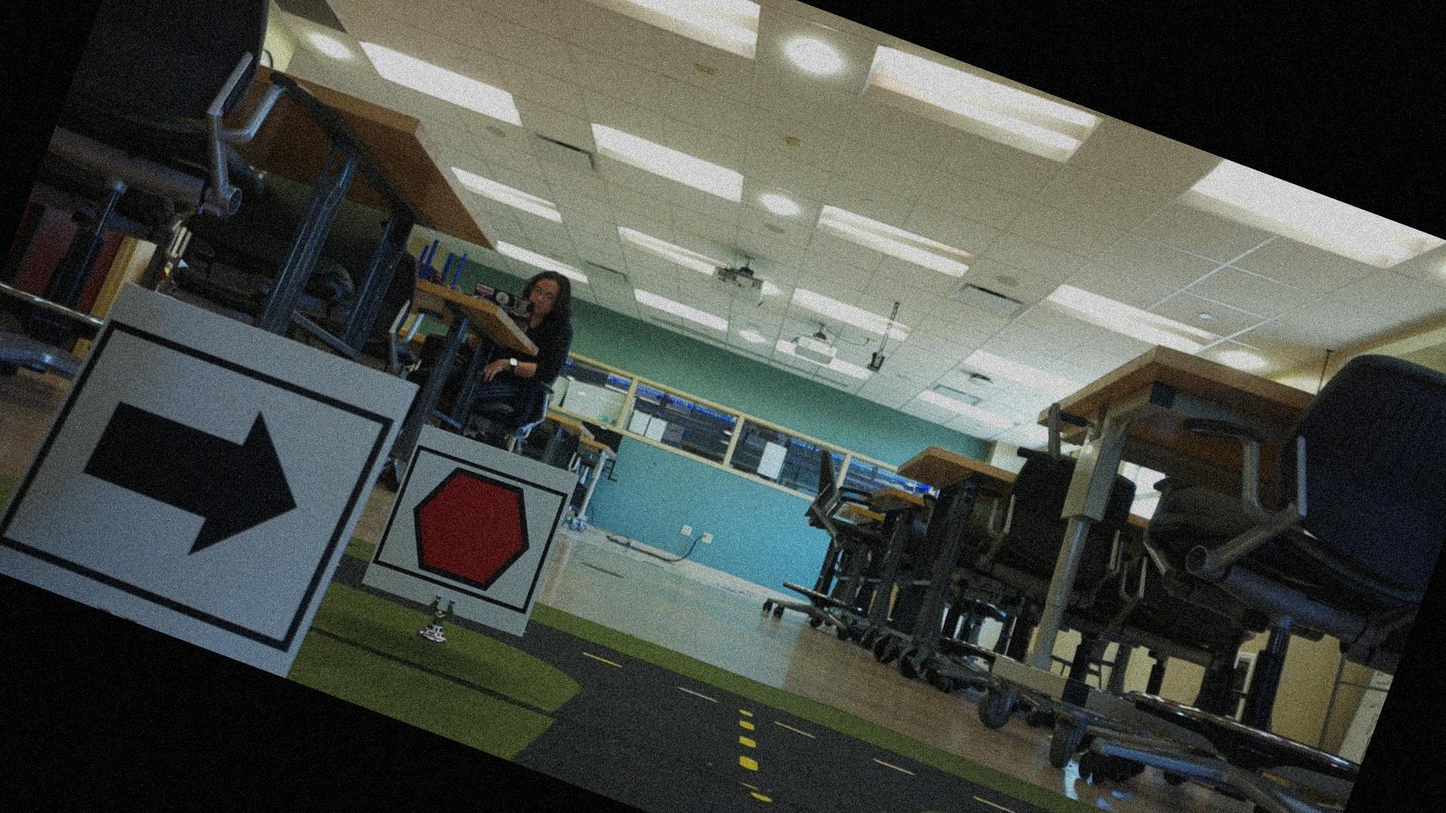stop: (377, 443, 571, 618)
turnright: (25, 323, 362, 643)
yellowline: (701, 715, 815, 812)
